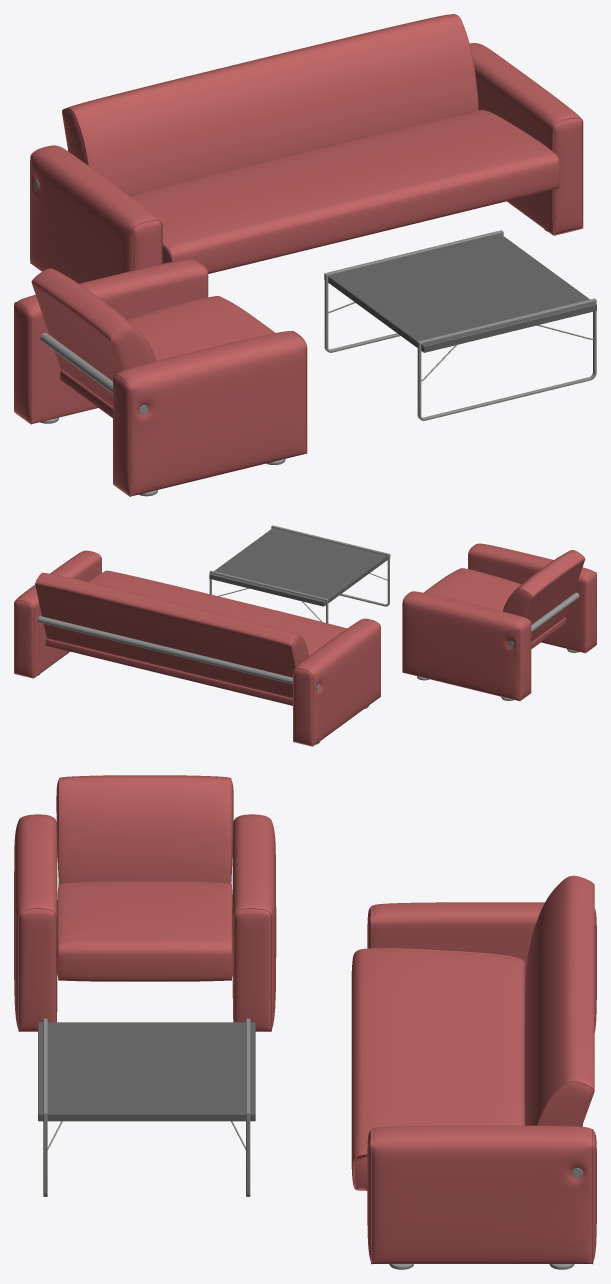
The model's file is chair .fbx.
3 views of the same model, one above another, from view 1: azimuth 30°, elevation 25°; view 2: azimuth 150°, elevation 25°; view 3: azimuth 270°, elevation 25° (orthographic). The views are drawn at different scales.
Visible parts, largest first — view 1: chair.008; view 2: chair.008; view 3: chair.008.
Part boxes in pixels (x1,y1,x2,y2): chair.008: (14, 14, 596, 496); chair.008: (14, 525, 596, 746); chair.008: (14, 775, 596, 1269).
Bounding box in the file's own units: 287 × 71.73 × 214.
Materials: 5 (2 with a texture image).
